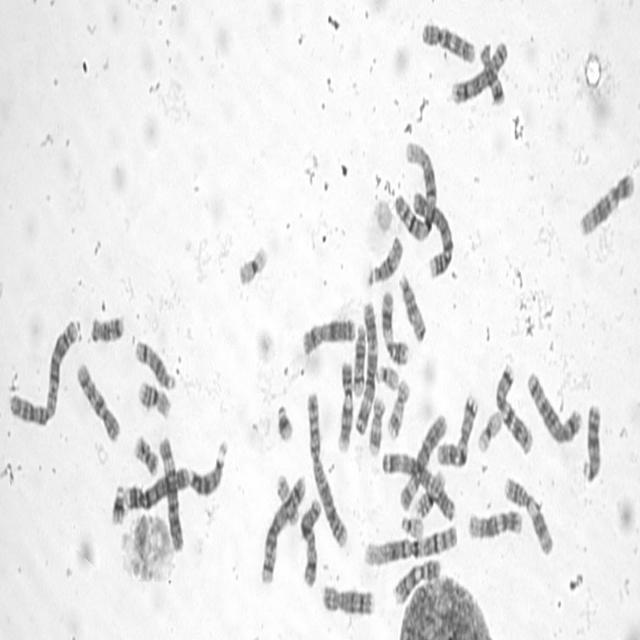A1: (393, 137, 438, 244), (362, 520, 458, 567)
A2: (6, 314, 81, 427), (305, 388, 349, 549)
A3: (379, 448, 456, 522), (352, 297, 379, 438)
B4: (410, 186, 454, 280), (124, 465, 191, 514)
B5: (258, 470, 307, 586), (524, 368, 582, 446)
C10: (74, 358, 122, 446), (418, 18, 478, 66)
C11: (501, 473, 554, 558), (379, 286, 410, 366)
C12: (576, 168, 636, 239), (466, 506, 524, 542)
C6: (398, 411, 448, 513), (158, 434, 184, 552)
C7: (492, 358, 534, 455), (435, 391, 479, 469)
C8: (449, 36, 508, 106), (319, 582, 376, 618)
C9: (391, 555, 442, 606), (335, 356, 354, 455)
D13: (188, 437, 228, 500), (580, 399, 602, 484)
D14: (133, 337, 176, 391), (352, 320, 368, 400)
D15: (365, 231, 404, 289), (397, 269, 427, 344)
E16: (413, 467, 446, 519), (137, 377, 172, 420)
E17: (384, 376, 410, 441), (366, 392, 386, 458)
E18: (478, 40, 505, 106), (88, 310, 125, 345)
F19: (236, 240, 269, 288), (476, 406, 503, 454)
F20: (275, 476, 300, 531), (132, 431, 160, 478)
G21: (274, 399, 295, 444), (110, 479, 126, 526)
G22: (374, 361, 399, 391), (399, 512, 424, 540)
X: (301, 314, 357, 356), (298, 496, 322, 588)
